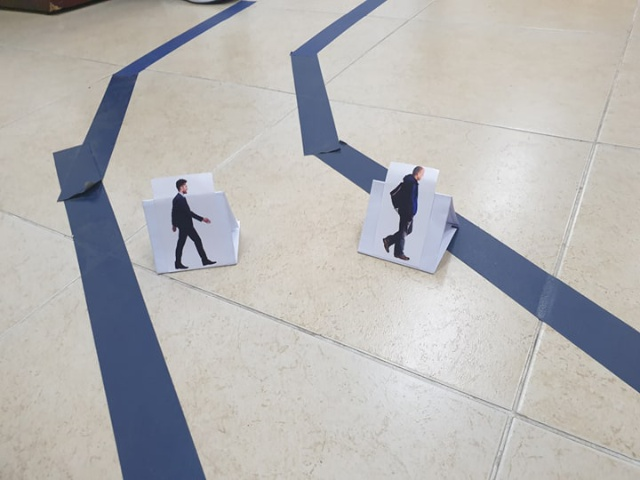Person: (162, 176, 217, 270), (384, 163, 424, 261)
